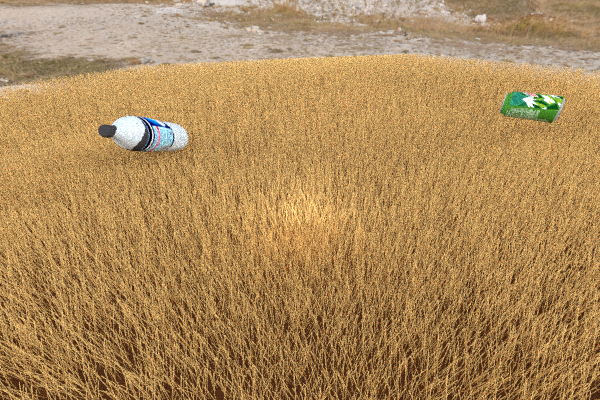Plastic Bottle: (97, 116, 188, 151), (499, 91, 565, 122)
